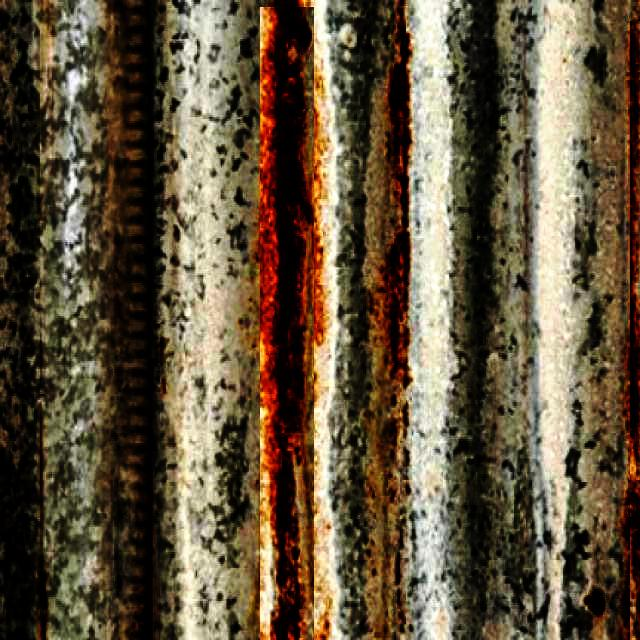Corrosion: (261, 6, 313, 640), (385, 0, 411, 384), (625, 10, 640, 640), (587, 591, 606, 616)
